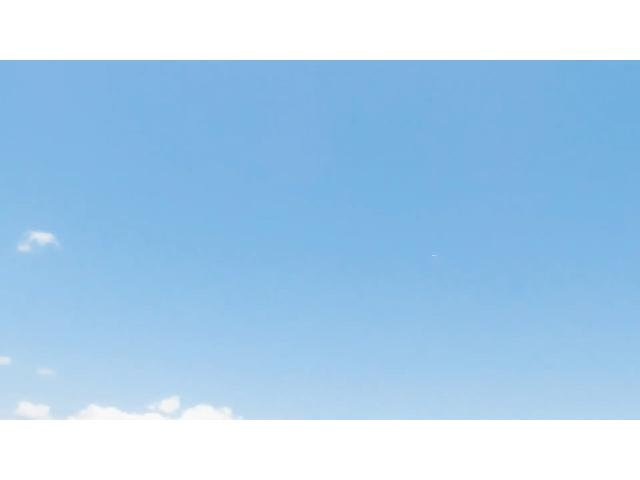Anti-Drone: (426, 250, 446, 262)
